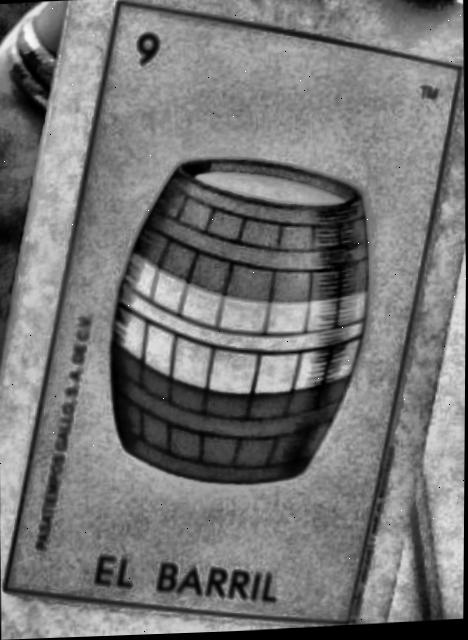El Barril: (10, 5, 461, 624)
